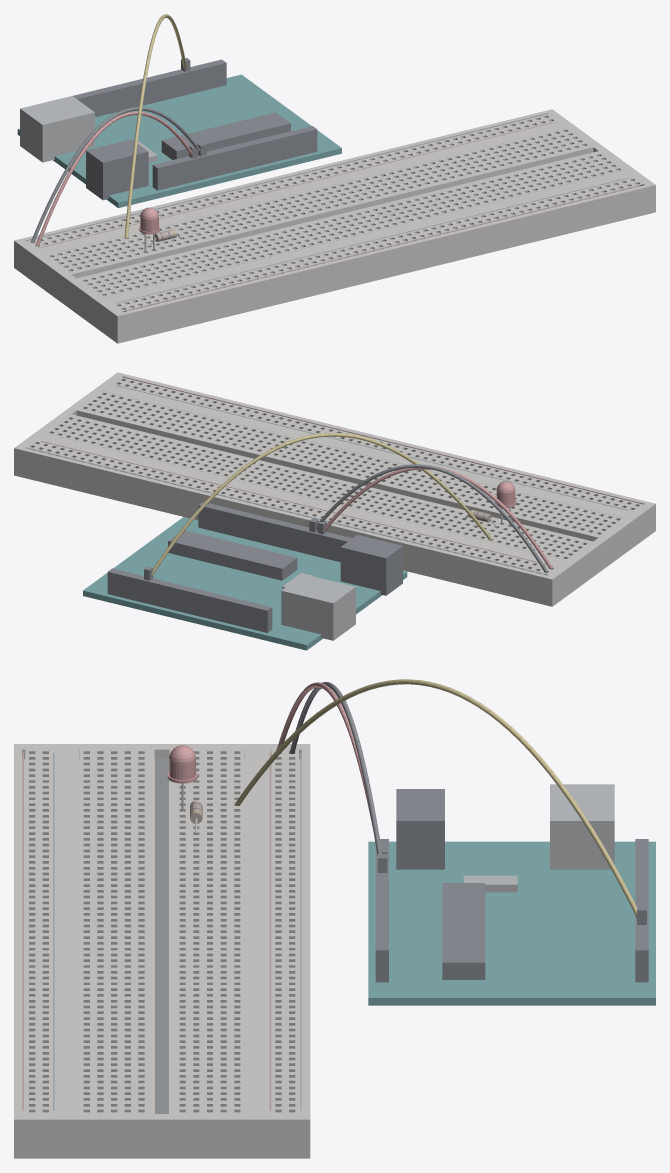
Rendered from step-5.glb.
3 views of the same model, one above another, from view 1: azimuth 30°, elevation 25°; view 2: azimuth 150°, elevation 25°; view 3: azimuth 270°, elevation 25° (orthographic). The views are drawn at different scales.
Parts seen in each view (by area): view 1: breadboard_1__mesh, arduino_uno__mesh, wire_led_sig__mesh, wire_main_gnd__mesh, wire_main_5v__mesh, led_red__mesh; view 2: breadboard_1__mesh, arduino_uno__mesh, wire_led_sig__mesh, wire_main_gnd__mesh, wire_main_5v__mesh, led_red__mesh; view 3: breadboard_1__mesh, arduino_uno__mesh, wire_led_sig__mesh, wire_main_gnd__mesh, led_red__mesh, wire_main_5v__mesh.
Part boxes in pixels (x1,y1,x2,y2): breadboard_1__mesh: (14,109,655,343); arduino_uno__mesh: (17,59,341,207); wire_led_sig__mesh: (124,14,190,238); wire_main_gnd__mesh: (31,107,206,242); wire_main_5v__mesh: (36,111,198,245); led_red__mesh: (139,207,160,252); breadboard_1__mesh: (14,372,655,606); arduino_uno__mesh: (83,502,407,650); wire_led_sig__mesh: (144,433,492,580); wire_main_gnd__mesh: (309,464,547,572); wire_main_5v__mesh: (317,466,552,569); led_red__mesh: (495,481,516,525); breadboard_1__mesh: (14,744,310,1158); arduino_uno__mesh: (368,784,655,1005); wire_led_sig__mesh: (235,679,646,924); wire_main_gnd__mesh: (289,682,387,872); led_red__mesh: (167,745,197,810); wire_main_5v__mesh: (276,682,387,853).
Bounding box in the file's own units: 0.165 × 0.047 × 0.1192.
